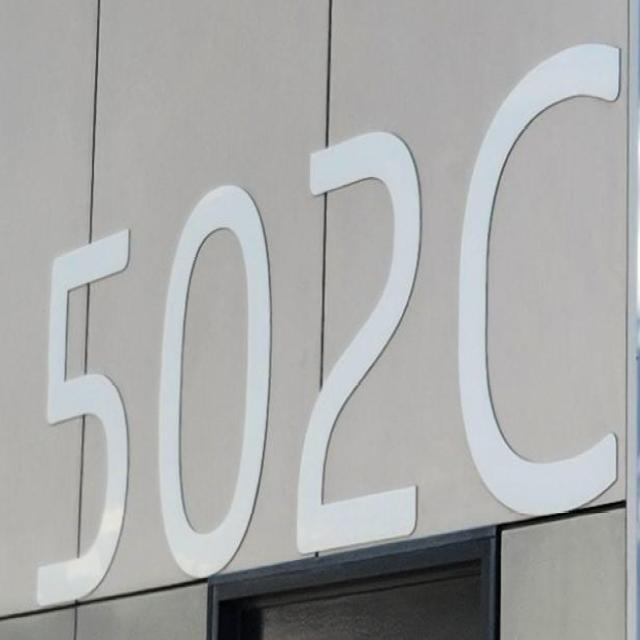character: (454, 39, 632, 519), (293, 122, 427, 558), (154, 181, 276, 583), (31, 222, 134, 611)
